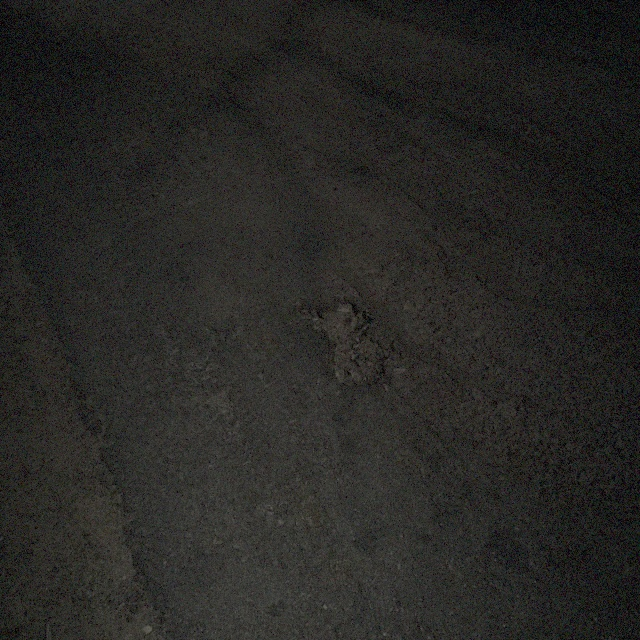pothole: (293, 294, 391, 388), (136, 31, 240, 92)
